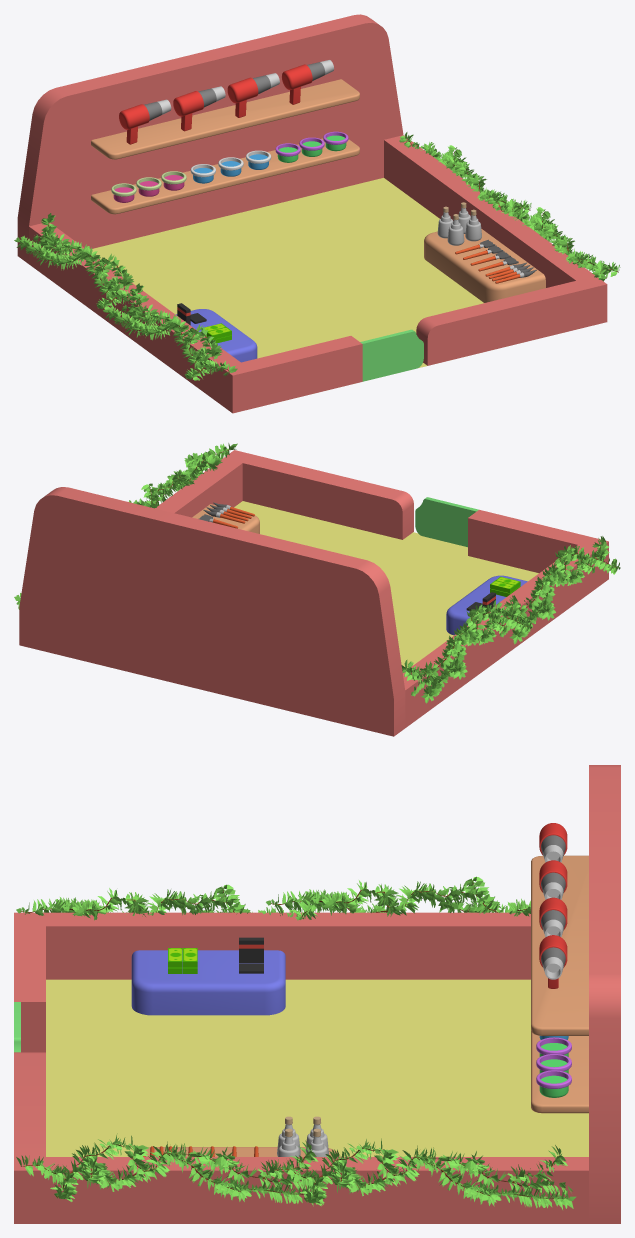
File: boyaOda.fbx
3 views of the same model, one above another, from view 1: azimuth 30°, elevation 25°; view 2: azimuth 150°, elevation 25°; view 3: azimuth 270°, elevation 25° (orthographic). The views are drawn at different scales.
Visible parts, largest first — view 1: Cube.002, zemin.001, Cube.007, Cube.003, Cube.010, Cube.001, tezgahRaf2.001, kurutma, masa.001, tezgahRaf1.001, leaf 2.006, leaf 2.007 (+9 smaller); view 2: Cube.002, zemin.001, Cube.007, Cube.001, Cube.010, leaf 2.006, leaf 2.007, Cube.003, kapi.001, leaf 2.005, masa2.001, firca (+1 smaller); view 3: zemin.001, Cube.001, Cube.003, Cube.002, masa2.001, leaf 2.004, leaf 2.005, tezgahRaf2.001, Cube.007, leaf 2.006, Cube.010, leaf 2.007 (+5 smaller).
Part boxes in pixels (<box>): Cube.002: <box>17,14,403,263</box>; zemin.001: <box>92,178,483,368</box>; Cube.007: <box>416,276,607,365</box>; Cube.003: <box>384,135,594,287</box>; Cube.010: <box>221,336,362,413</box>; Cube.001: <box>29,222,240,404</box>; tezgahRaf2.001: <box>91,79,359,159</box>; kurutma: <box>119,60,334,144</box>; masa.001: <box>424,229,545,302</box>; tezgahRaf1.001: <box>91,138,359,214</box>; leaf 2.006: <box>14,213,148,310</box>; leaf 2.007: <box>103,283,237,380</box>; Cube.002: <box>19,487,405,736</box>; zemin.001: <box>234,501,538,669</box>; Cube.007: <box>223,450,413,539</box>; Cube.001: <box>403,545,597,727</box>; Cube.010: <box>468,509,608,586</box>; leaf 2.006: <box>401,595,531,703</box>; leaf 2.007: <box>488,536,620,644</box>; Cube.003: <box>155,458,242,517</box>; kapi.001: <box>415,497,478,547</box>; leaf 2.005: <box>129,443,237,508</box>; masa2.001: <box>446,575,527,635</box>; firca: <box>203,502,254,523</box>; zemin.001: <box>46,979,588,1156</box>; Cube.001: <box>46,912,530,979</box>; Cube.003: <box>46,1157,588,1223</box>; Cube.002: <box>589,765,620,1223</box>; masa2.001: <box>131,950,285,1015</box>; leaf 2.004: <box>266,1138,576,1209</box>; leaf 2.005: <box>16,1133,326,1206</box>; tezgahRaf2.001: <box>531,855,588,1035</box>; Cube.007: <box>14,1052,45,1223</box>; leaf 2.006: <box>266,876,530,916</box>; Cube.010: <box>14,912,45,1052</box>; leaf 2.007: <box>16,884,318,920</box>.
Size of the model in its own units: 1788 by 623 by 1526.
